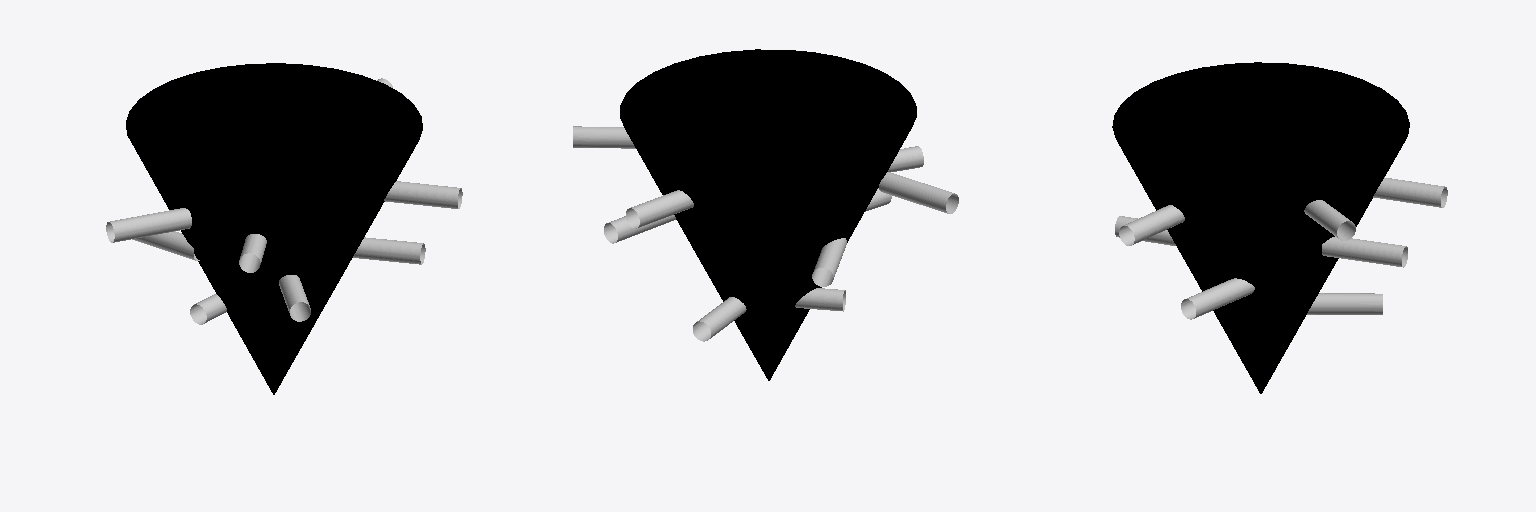
Rendered from mina.obj.
3 renders of one model, left to right at view 1: azimuth 30°, elevation 25°; view 2: azimuth 150°, elevation 25°; view 3: azimuth 270°, elevation 25°, orthographic.
Visible parts, largest first — view 1: Cone.002_Cone.008, Surface.009_Surface.012, Surface.010_Surface.013, Surface.001_Surface.002, Surface.008_Surface.011, Surface.012_Surface.015, Surface.005_Surface.009, Surface.002_Surface.003; view 2: Cone.002_Cone.008, Surface.009_Surface.012, Surface.011_Surface.014, Surface.014_Surface.017, Surface_Surface.001, Surface.012_Surface.015, Surface.002_Surface.003, Surface.006_Surface.010, Surface.005_Surface.009; view 3: Cone.002_Cone.008, Surface.006_Surface.010, Surface_Surface.001, Surface.001_Surface.002, Surface.011_Surface.014, Surface.010_Surface.013, Surface.014_Surface.017.
Boxes of the visible parts, box(x1,y1,x2,y2) form: Cone.002_Cone.008: box(126, 63, 422, 394); Surface.009_Surface.012: box(106, 208, 191, 242); Surface.010_Surface.013: box(384, 181, 462, 208); Surface.001_Surface.002: box(353, 237, 425, 264); Surface.008_Surface.011: box(279, 275, 310, 321); Surface.012_Surface.015: box(132, 231, 199, 260); Surface.005_Surface.009: box(239, 234, 266, 272); Surface.002_Surface.003: box(190, 294, 226, 324); Cone.002_Cone.008: box(620, 49, 916, 380); Surface.009_Surface.012: box(879, 172, 958, 213); Surface.011_Surface.014: box(626, 190, 693, 228); Surface.014_Surface.017: box(573, 126, 635, 148); Surface_Surface.001: box(693, 297, 746, 341); Surface.012_Surface.015: box(812, 238, 846, 286); Surface.002_Surface.003: box(795, 288, 845, 311); Surface.006_Surface.010: box(604, 215, 675, 243); Surface.005_Surface.009: box(888, 146, 923, 171); Cone.002_Cone.008: box(1112, 62, 1409, 393); Surface.006_Surface.010: box(1322, 236, 1407, 267); Surface_Surface.001: box(1307, 293, 1382, 314); Surface.001_Surface.002: box(1181, 278, 1254, 319); Surface.011_Surface.014: box(1373, 177, 1447, 207); Surface.010_Surface.013: box(1119, 205, 1184, 245); Surface.014_Surface.017: box(1304, 200, 1355, 240).
Size of the model in its own units: 94.87 by 73.72 by 82.89.